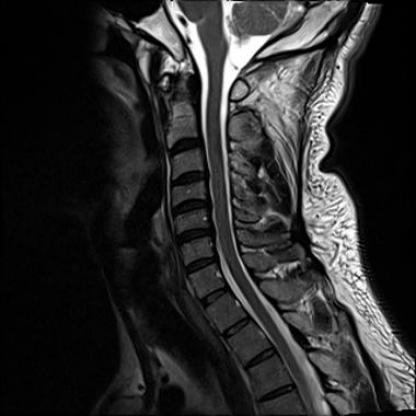Disc Bulgerotation: (169, 169, 209, 188), (170, 198, 209, 216), (182, 257, 219, 273), (168, 138, 202, 155), (175, 228, 213, 243)
Disc Protrusionrotation: (183, 257, 219, 273)
